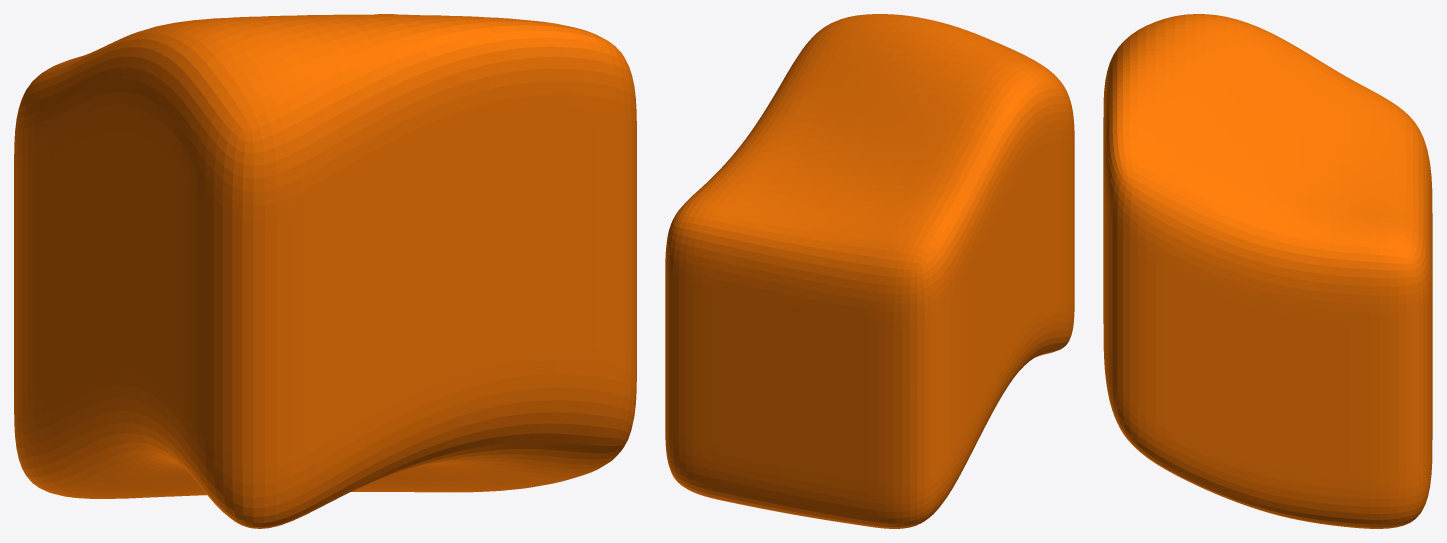
3 renders of one model, left to right at view 1: azimuth 30°, elevation 25°; view 2: azimuth 150°, elevation 25°; view 3: azimuth 270°, elevation 25°, orthographic. The views are drawn at different scales.
Parts seen in each view (by area): view 1: smooth_1_base.037; view 2: smooth_1_base.037; view 3: smooth_1_base.037.
Boxes of the visible parts, x1,y1,x2,y2 form: smooth_1_base.037: (14,14,636,528); smooth_1_base.037: (665,14,1074,528); smooth_1_base.037: (1103,14,1432,528).
Size of the model in its own units: 60 by 81.76 by 60.
